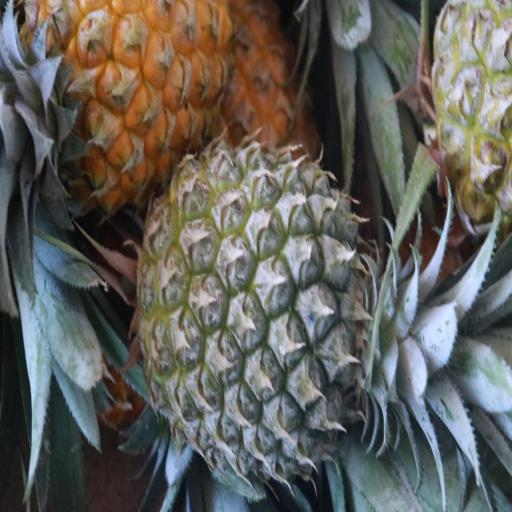Pineapple - v8 v1: (25, 0, 229, 207)
